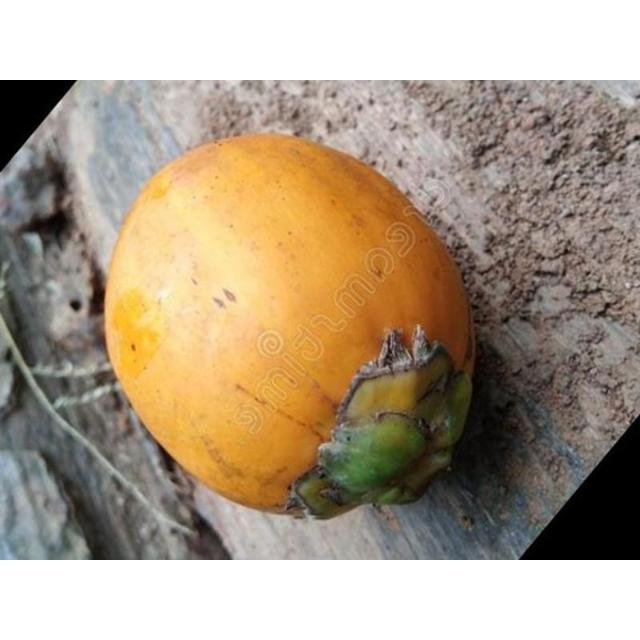good: (101, 133, 479, 522)
